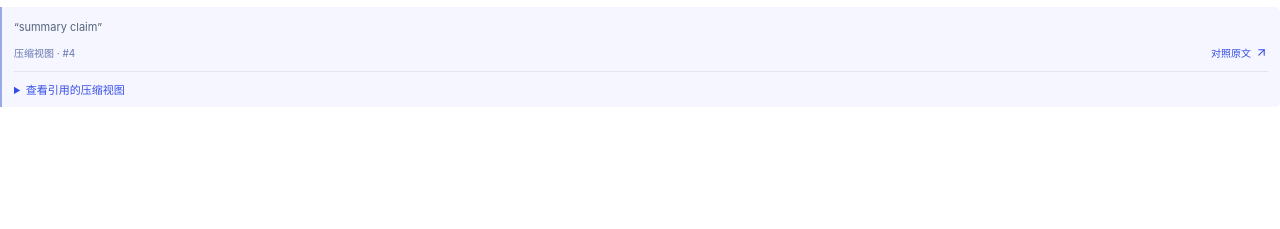
Test case: uses Python Unicode offsets when the official view contains emoji
Click the heading "查看引用的压缩视图": coordinates (75, 90) [26,83,125,97]
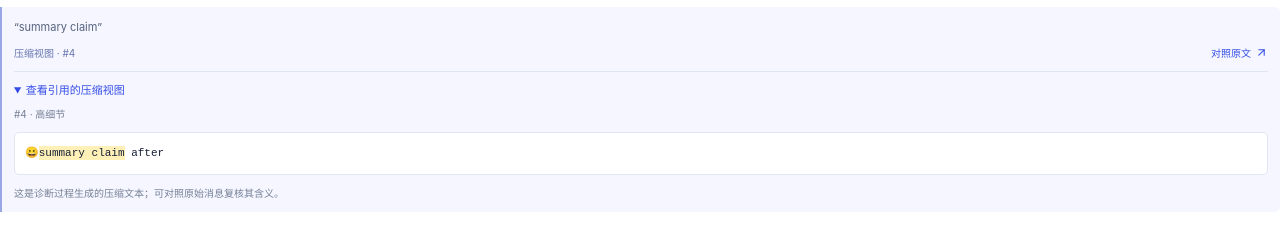
Expected: the text "summary claim" is shown, [39,146,124,160]
